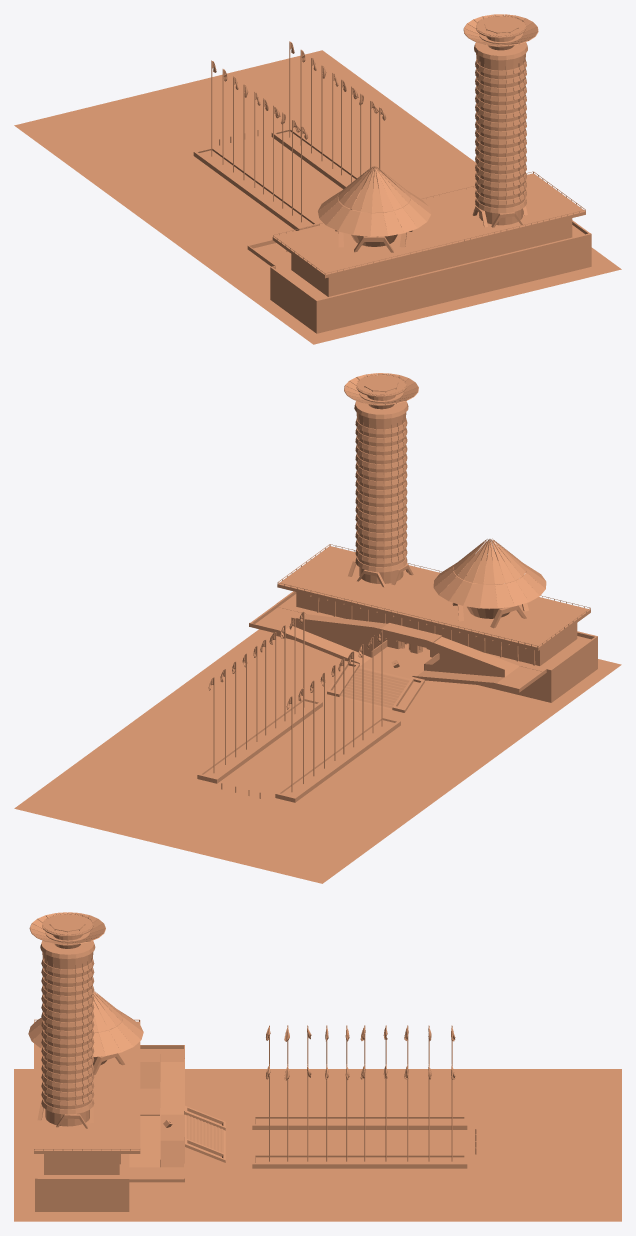
File: kicc.glb
The picture shows the model from 3 angles, top to bottom: view 1: azimuth 30°, elevation 25°; view 2: azimuth 150°, elevation 25°; view 3: azimuth 270°, elevation 25°; orthographic projection.
Visible parts, largest first — view 1: building; view 2: building; view 3: building.
Boxes of the visible parts, x1=… form: building: x1=14, y1=14, x2=621, y2=344; building: x1=14, y1=373, x2=621, y2=883; building: x1=14, y1=912, x2=621, y2=1221.
Size of the model in its own units: 87.3 by 67.19 by 147.
